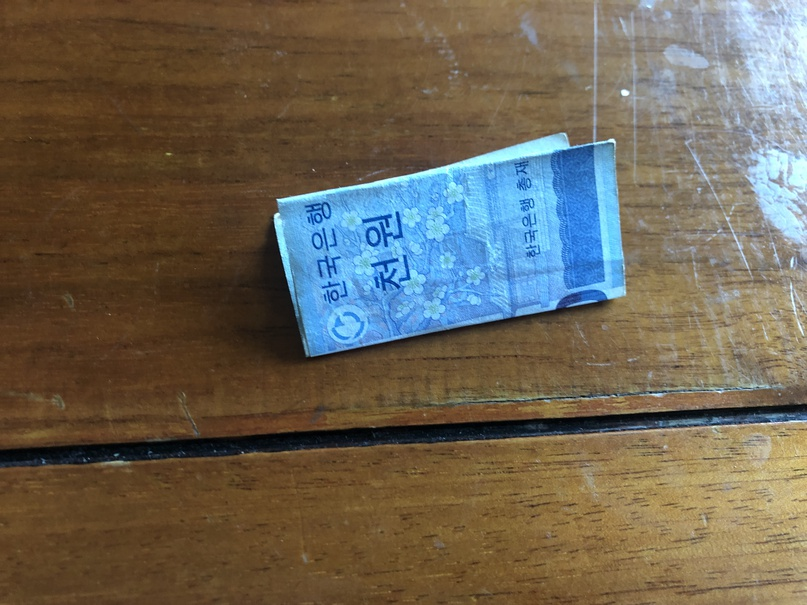1000won: (273, 130, 627, 361)
